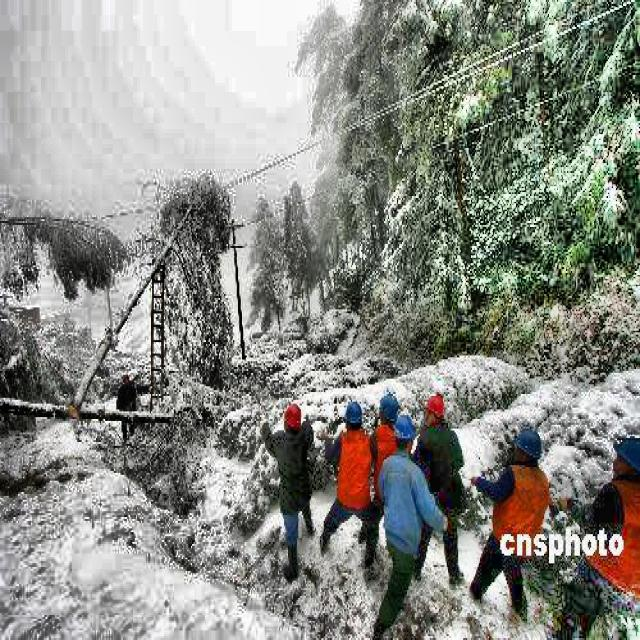helmet: (507, 424, 546, 474), (608, 431, 639, 490), (280, 398, 308, 444), (388, 413, 417, 456), (422, 392, 447, 433), (378, 388, 400, 434), (339, 398, 366, 434)
